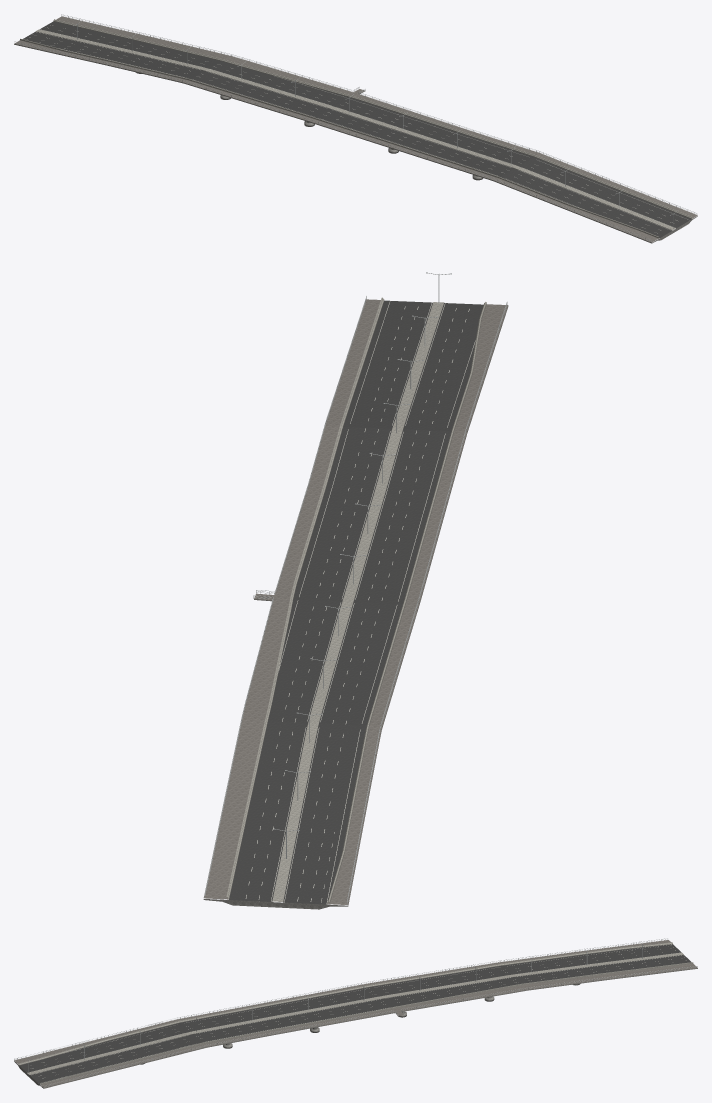
The picture shows the model from 3 angles, top to bottom: view 1: azimuth 30°, elevation 25°; view 2: azimuth 150°, elevation 25°; view 3: azimuth 270°, elevation 25°; orthographic projection. The views are drawn at different scales.
Parts seen in each view (by area): view 1: Bayfront asphalt, Bridge footway aggregate, Walkway kerbs and median, Bridge rails and lighting, Deck and pier concrete, Lane markings; view 2: Bayfront asphalt, Bridge footway aggregate, Walkway kerbs and median, Lane markings, Bridge rails and lighting, Deck and pier concrete; view 3: Bayfront asphalt, Walkway kerbs and median, Bridge footway aggregate, Bridge rails and lighting, Deck and pier concrete, Lane markings.
Boxes of the visible parts, x1,y1,x2,y2 form: Bayfront asphalt: [23, 21, 691, 237]; Bridge footway aggregate: [14, 16, 697, 242]; Walkway kerbs and median: [20, 19, 692, 238]; Bridge rails and lighting: [14, 14, 697, 241]; Deck and pier concrete: [14, 44, 697, 243]; Lane markings: [27, 25, 687, 233]; Bayfront asphalt: [229, 300, 483, 904]; Bridge footway aggregate: [203, 299, 508, 904]; Walkway kerbs and median: [226, 297, 486, 903]; Lane markings: [245, 301, 475, 904]; Bridge rails and lighting: [204, 272, 507, 904]; Deck and pier concrete: [203, 306, 508, 909]; Bayfront asphalt: [19, 944, 691, 1084]; Walkway kerbs and median: [18, 942, 693, 1084]; Bridge footway aggregate: [14, 940, 697, 1087]; Bridge rails and lighting: [14, 938, 697, 1087]; Deck and pier concrete: [14, 968, 697, 1088]; Lane markings: [32, 944, 686, 1078].
Size of the model in its own units: 196 by 18.5 by 383.
Materials: 6 (5 with a texture image).
